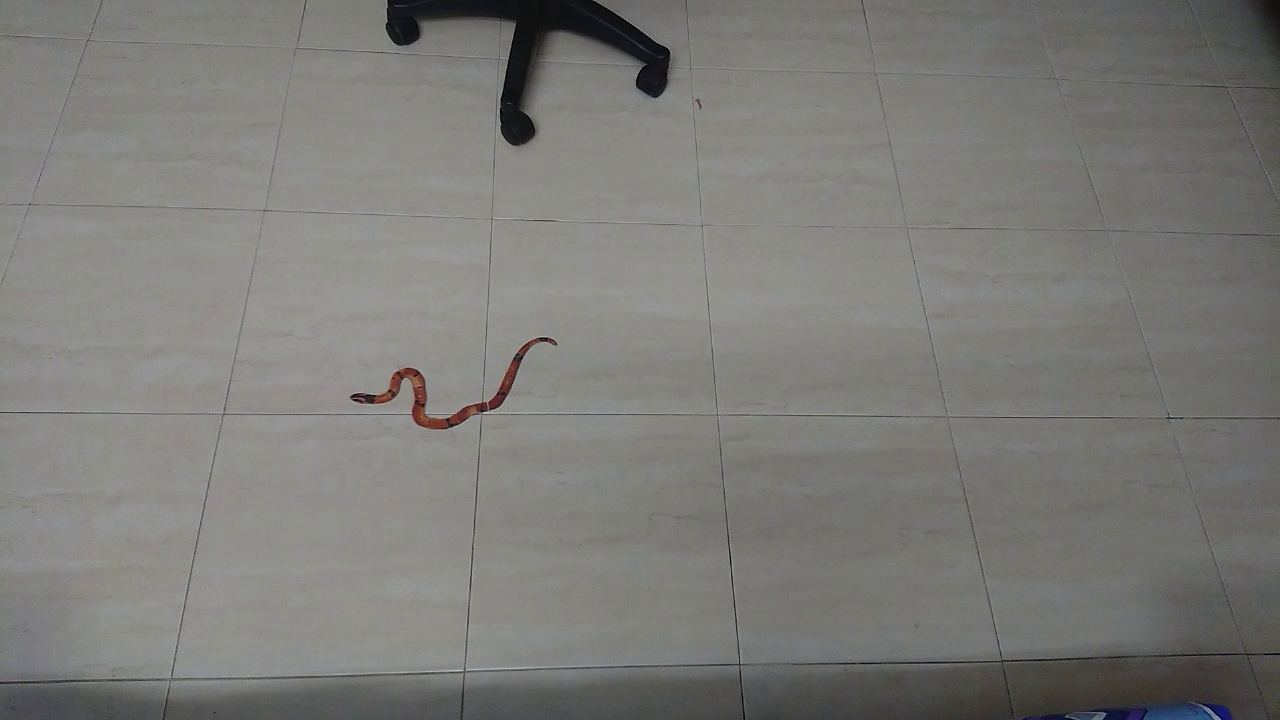snake: (331, 319, 573, 444)
